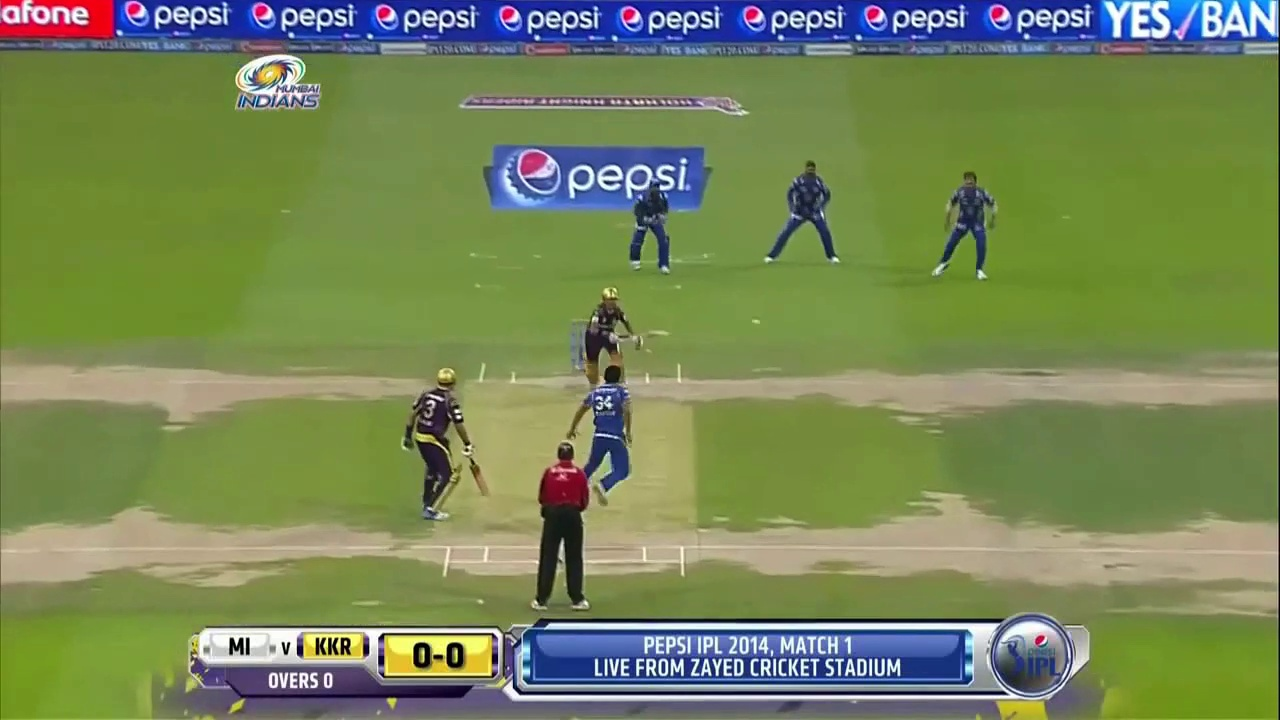bat: (466, 457, 491, 497)
